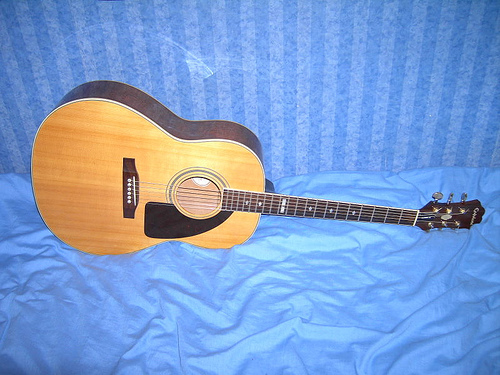guitar: (28, 79, 486, 257)
